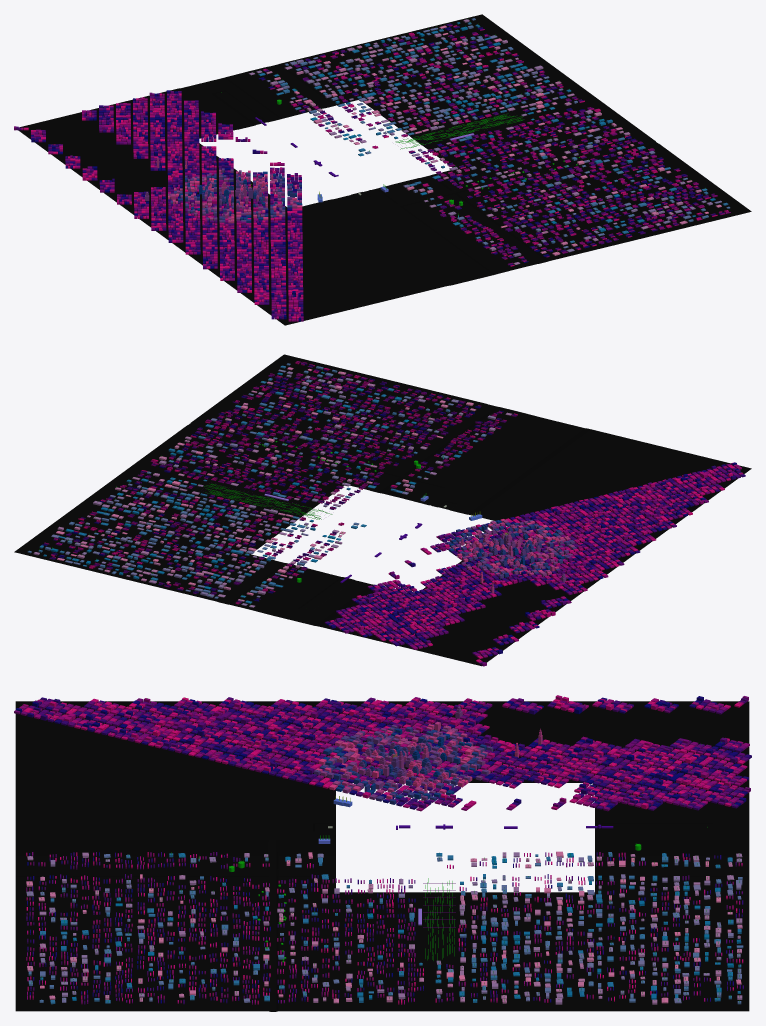
File: city_far_districts.glb
3 views of the same model, one above another, from view 1: azimuth 30°, elevation 25°; view 2: azimuth 150°, elevation 25°; view 3: azimuth 270°, elevation 25° (orthographic). The views are drawn at different scales.
Parts seen in each view (by area): view 1: ground_e__asphalt, ground_w__asphalt, midtown__roof_bitumen, midtown__far_brick, ground_e__soil, ground_e__water_clear, greenpoint__roof_bitumen, queens_north__roof_bitumen, queens_north__far_brick, greenpoint__far_brick, greenpoint__far_grey, midtown__far_grey (+8 smaller); view 2: ground_e__asphalt, midtown__roof_bitumen, ground_w__asphalt, midtown__far_brick, ground_e__soil, ground_e__water_clear, greenpoint__roof_bitumen, queens_north__roof_bitumen, midtown__far_grey, queens_north__far_brick, greenpoint__far_brick, greenpoint__far_grey (+8 smaller); view 3: ground_e__asphalt, midtown__roof_bitumen, ground_w__asphalt, midtown__far_brick, ground_e__soil, ground_e__water_clear, midtown__far_grey, queens_north__roof_bitumen, greenpoint__roof_bitumen, queens_east__roof_bitumen, queens_north__far_brick, queens_north__galvanized_roof (+10 smaller).
Part boxes in pixels (<box>): ground_e__asphalt: <box>247,14,751,269</box>; ground_w__asphalt: <box>18,89,445,325</box>; midtown__roof_bitumen: <box>14,90,322,320</box>; midtown__far_brick: <box>14,92,322,321</box>; ground_e__soil: <box>177,64,657,286</box>; ground_e__water_clear: <box>181,78,657,285</box>; greenpoint__roof_bitumen: <box>430,146,730,265</box>; queens_north__roof_bitumen: <box>259,18,584,150</box>; queens_north__far_brick: <box>256,20,577,156</box>; greenpoint__far_brick: <box>429,148,729,265</box>; greenpoint__far_grey: <box>424,147,730,266</box>; midtown__far_grey: <box>16,90,303,321</box>; ground_e__asphalt: <box>14,354,519,609</box>; midtown__roof_bitumen: <box>325,462,745,663</box>; ground_w__asphalt: <box>321,429,751,666</box>; midtown__far_brick: <box>324,463,745,666</box>; ground_e__soil: <box>188,404,590,626</box>; ground_e__water_clear: <box>188,418,585,625</box>; greenpoint__roof_bitumen: <box>205,361,517,477</box>; queens_north__roof_bitumen: <box>28,470,357,603</box>; midtown__far_grey: <box>326,463,736,665</box>; queens_north__far_brick: <box>33,472,366,605</box>; greenpoint__far_brick: <box>205,361,516,478</box>; greenpoint__far_grey: <box>205,362,517,479</box>; ground_e__asphalt: <box>15,854,749,1011</box>; midtown__roof_bitumen: <box>14,695,751,809</box>; ground_w__asphalt: <box>15,701,749,808</box>; midtown__far_brick: <box>14,696,751,811</box>; ground_e__soil: <box>15,808,749,1011</box>; ground_e__water_clear: <box>15,812,749,1011</box>; midtown__far_grey: <box>15,698,748,809</box>; queens_north__roof_bitumen: <box>435,851,743,1002</box>; greenpoint__roof_bitumen: <box>26,852,270,1003</box>; queens_east__roof_bitumen: <box>277,874,423,1003</box>; queens_north__far_brick: <box>435,852,743,1004</box>; queens_north__galvanized_roof: <box>435,844,743,1002</box>.
Bounding box in the file's own units: 7661 × 226 × 7646.
